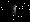person: (9, 5, 16, 17)
